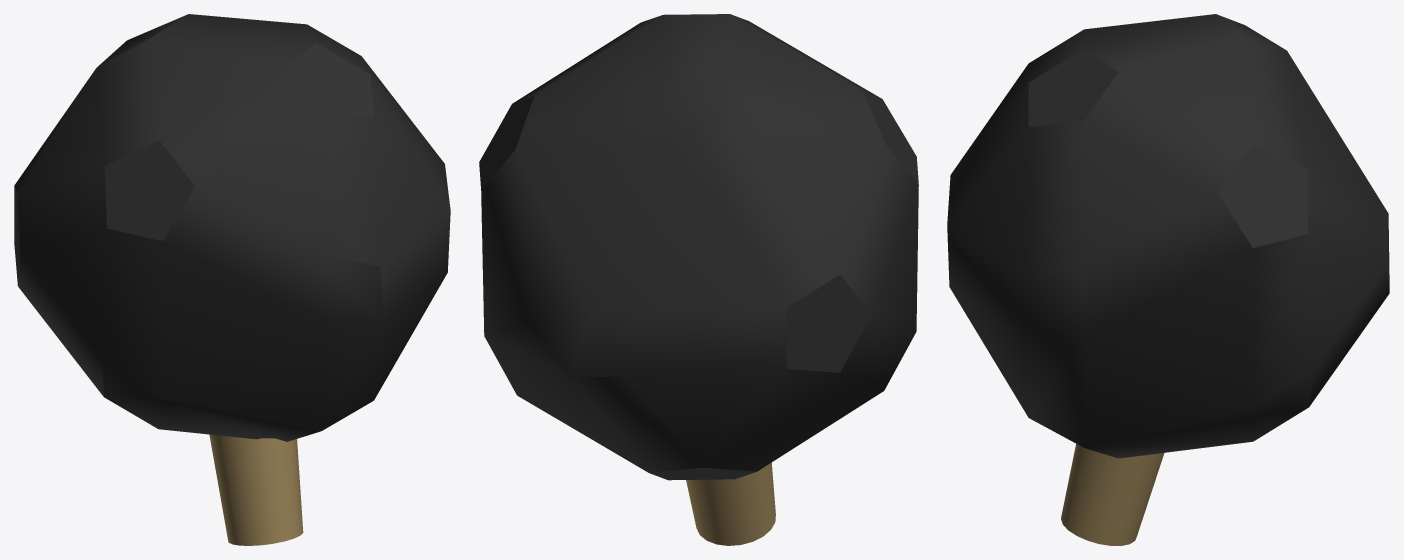
The model's file is CoalBomb.fbx.
3 renders of one model, left to right at view 1: azimuth 30°, elevation 25°; view 2: azimuth 150°, elevation 25°; view 3: azimuth 270°, elevation 25°, orthographic. The views are drawn at different scales.
Parts seen in each view (by area): view 1: pCylinder3; view 2: pCylinder3; view 3: pCylinder3.
Boxes of the visible parts, x1,y1,x2,y2 form: pCylinder3: [14, 14, 450, 545]; pCylinder3: [479, 14, 918, 545]; pCylinder3: [947, 14, 1389, 545].
Bounding box in the file's own units: 1.49 × 1.89 × 1.53.
